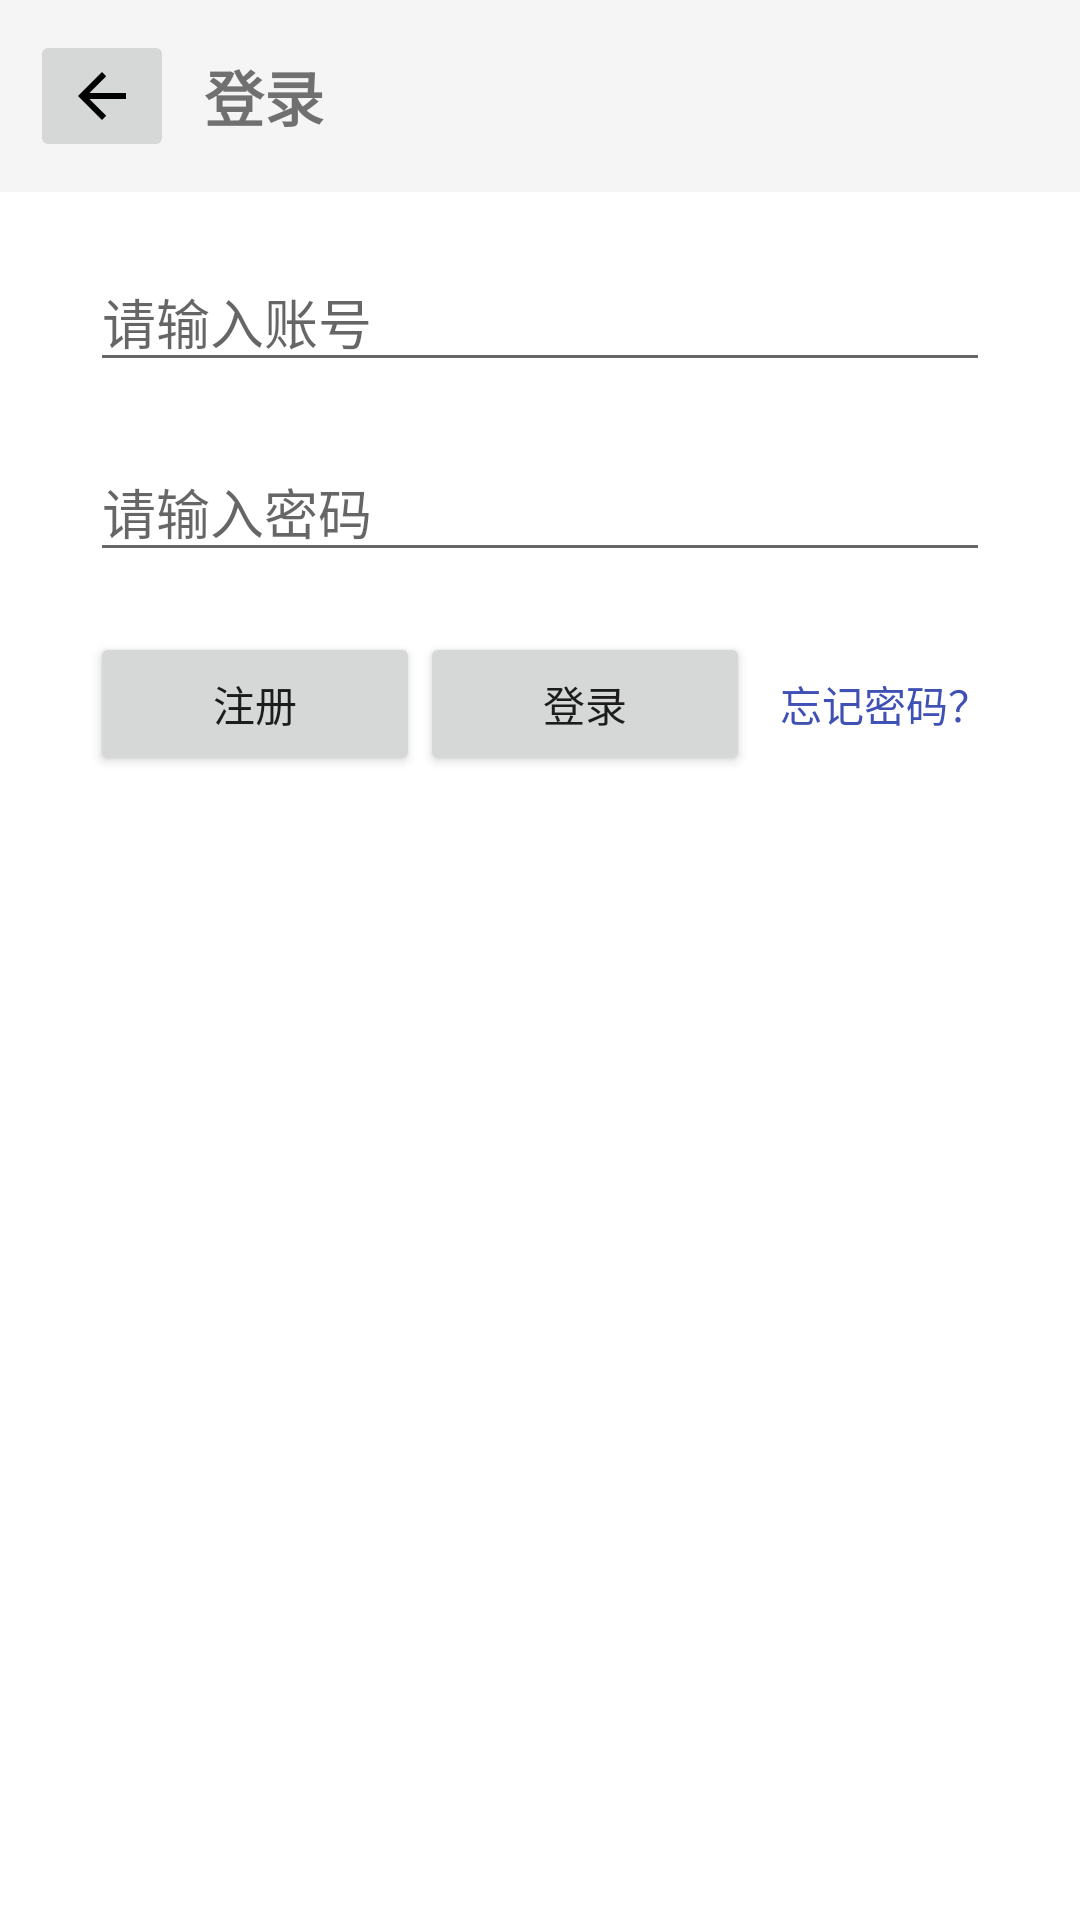

Screen size 1080*1920. Icon name, then its box in pixels as (x1=x1, y1=y1, x2=x2, y2=y2):
back: (x1=42, y1=48, x2=162, y2=144)
